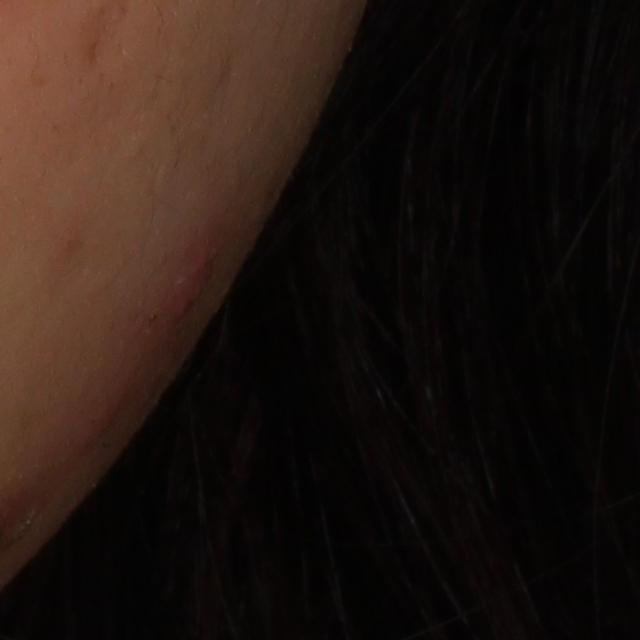papule: (163, 251, 219, 323)
